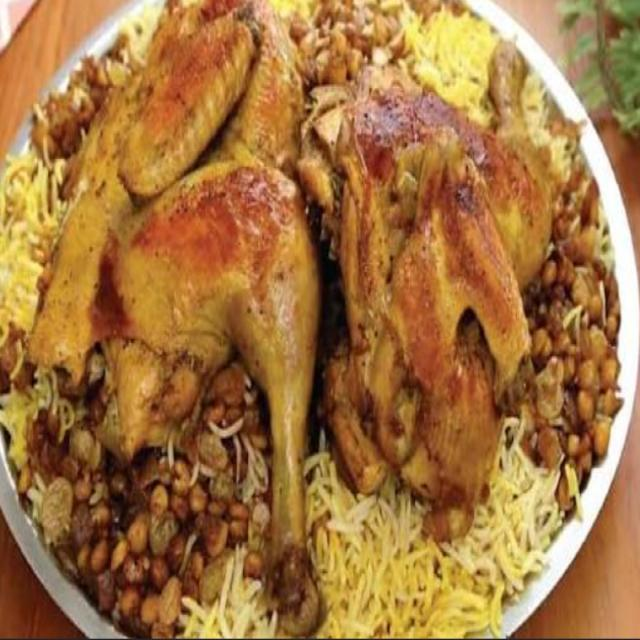Machboos: (39, 9, 621, 615)
